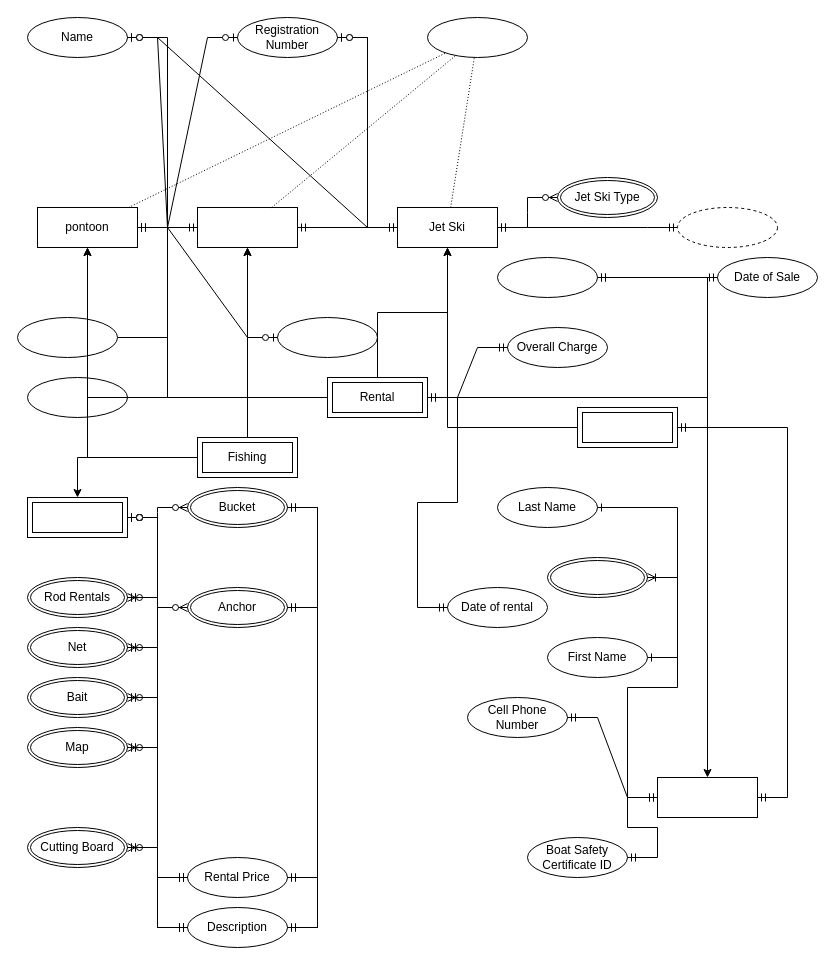
This 835x965 diagram has some shape labels left out. The shapes that lost their labels are listed below. From the top down, each one's centre as x and y in pixels, then its label:
At (477,37): "Flare Gun".
At (247,227): "skiff".
At (727,227): "Age of Jet Ski".
At (547,277): "Amount of Sale".
At (67,337): "Length".
At (327,337): "Manufacturer".
At (77,397): "Capacity".
At (627,427): "Sell".
At (77,517): "Equipments".
At (597,577): "Customer Name".
At (707,797): "Customer".
